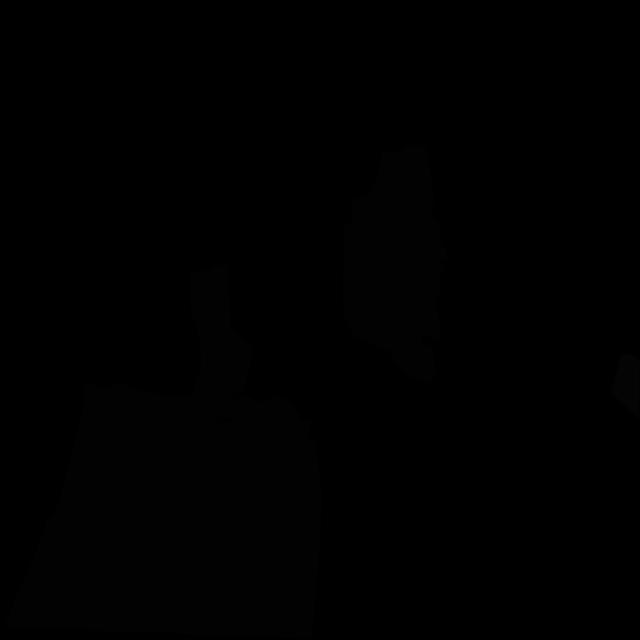cardboard: (4, 382, 322, 639), (342, 145, 448, 384), (190, 265, 256, 421)
soft_plastic: (611, 353, 640, 419)
